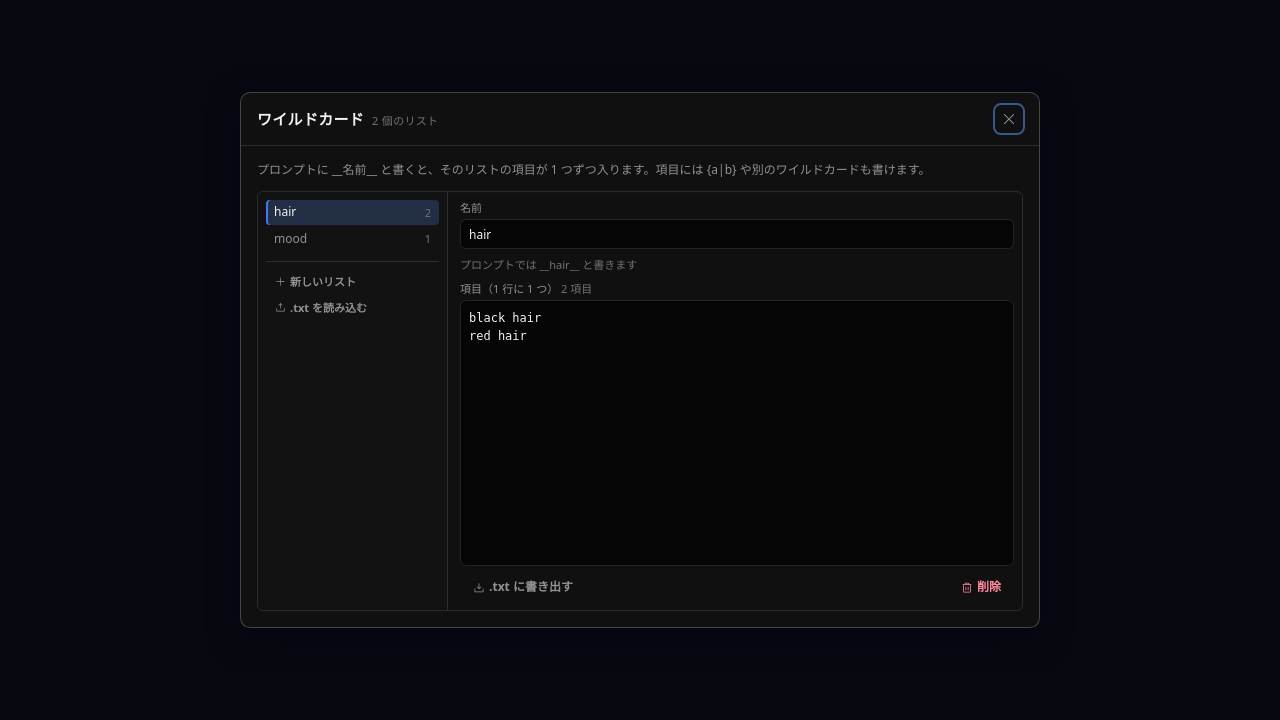
it: wildcard lists dialog › refuses an invalid or taken name and keeps the list as it was
The width and height of the screenshot is (1280, 720).
Replace the text in the field with test id "wildcard-name" with "two words" at [737, 234], box [460,219,1014,249]
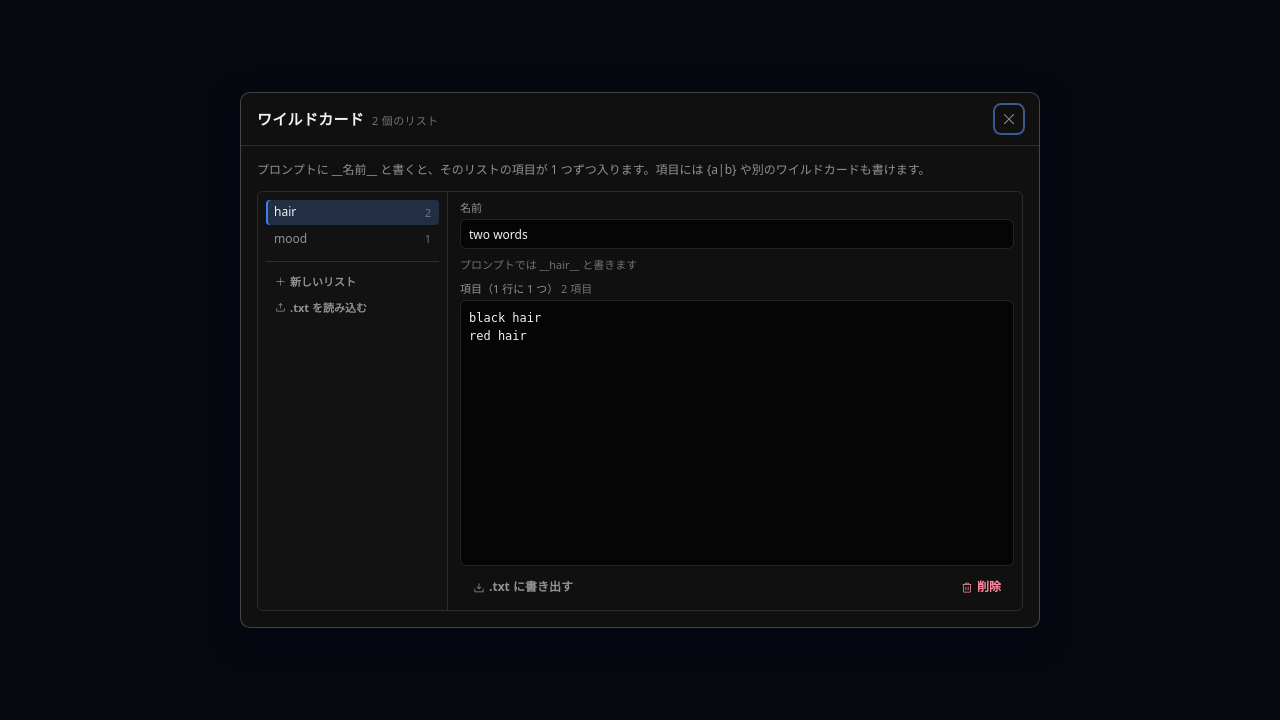
Leave the field with test id "wildcard-name", box [460,219,1014,249]
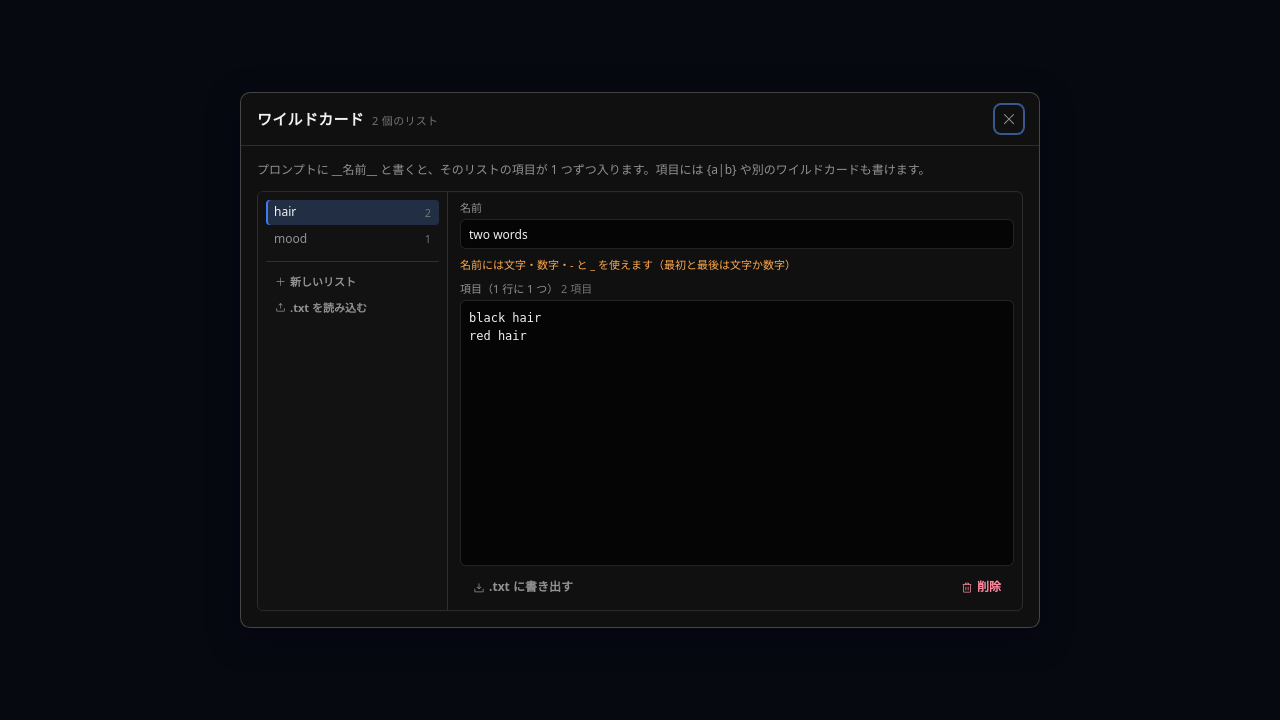
Replace the text in the field with test id "wildcard-name" with "mood" at [737, 234], box [460,219,1014,249]
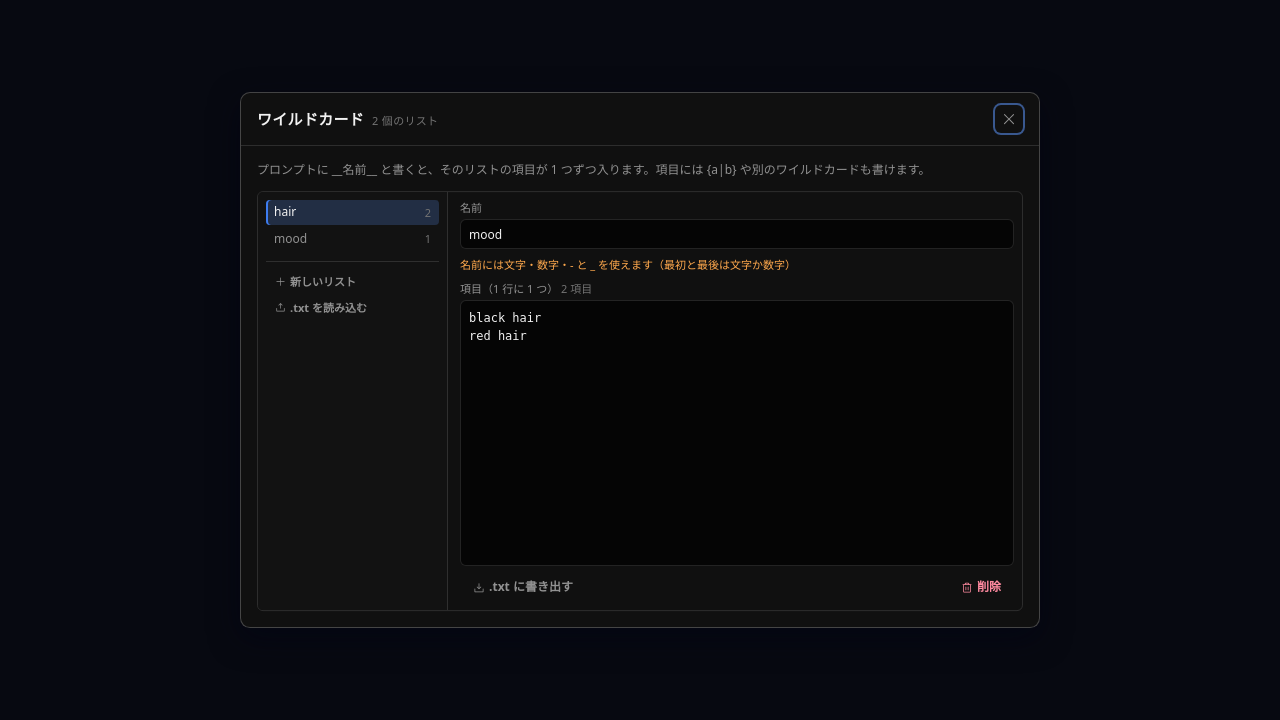
Press Enter in the field with test id "wildcard-name", box [460,219,1014,249]
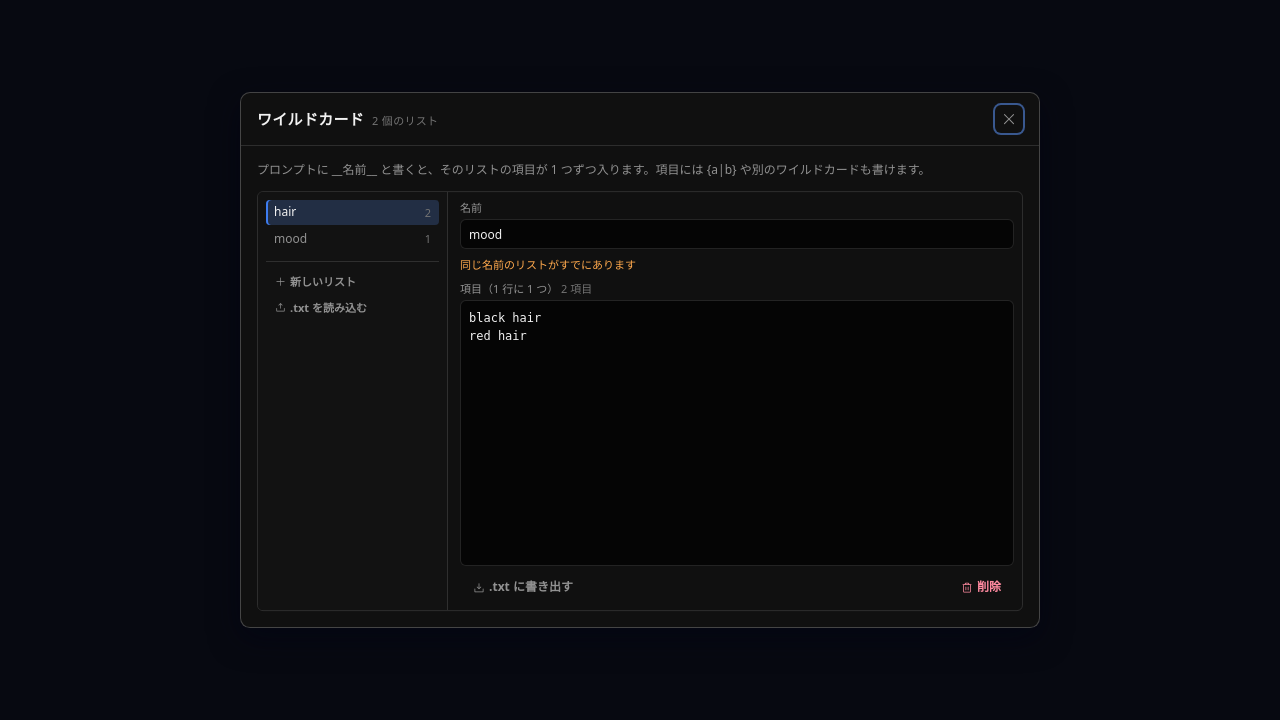
Expected: the text "hair" is shown, [274,204,296,221]
Expected: the message reads "同じ名前のリストがすでにあります", [460,257,636,272]
Replace the text in the field with test id "wildcard-name" with "hair-color" at [737, 234], box [460,219,1014,249]
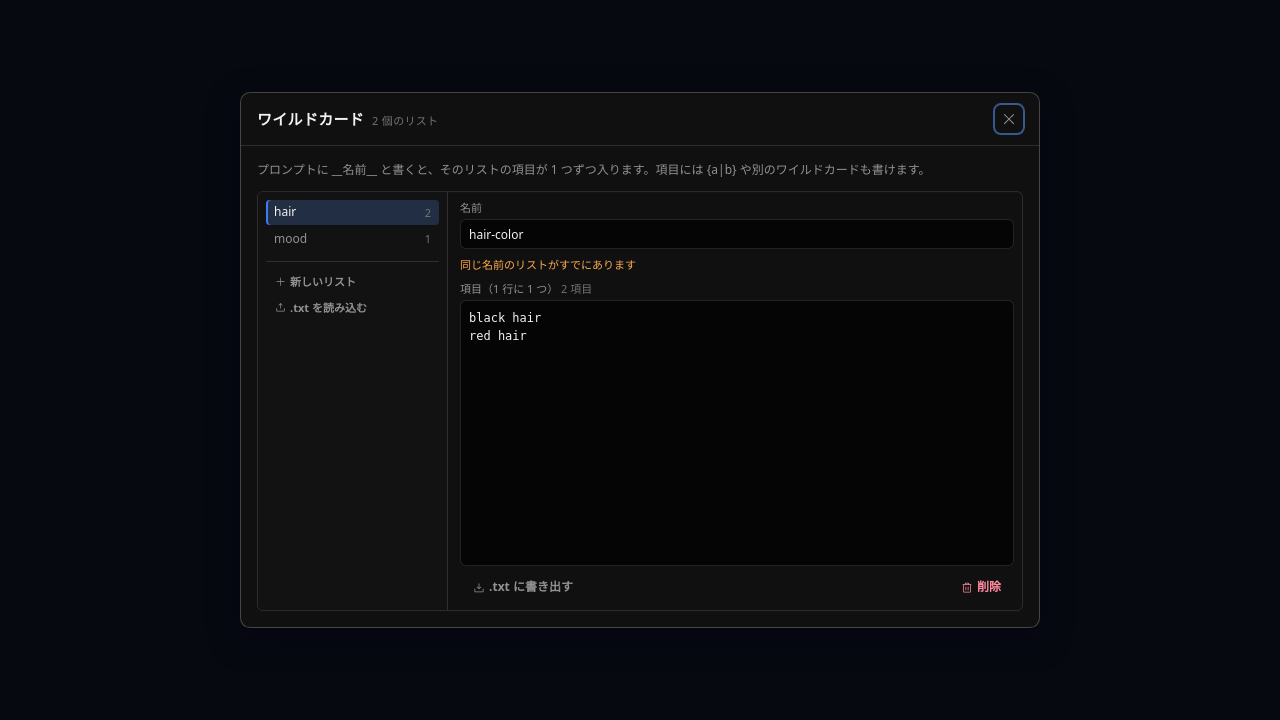
Leave the field with test id "wildcard-name", box [460,219,1014,249]
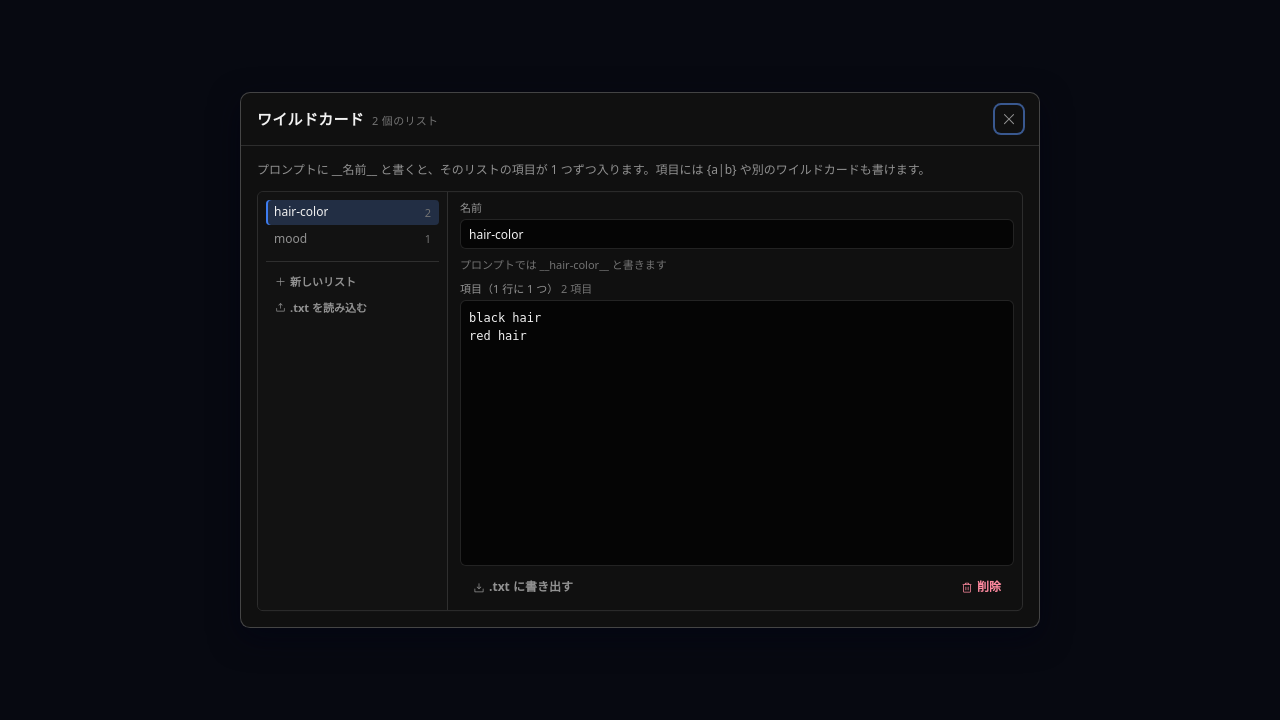
Expected: the text "hair-color" is shown, [274,204,328,221]
